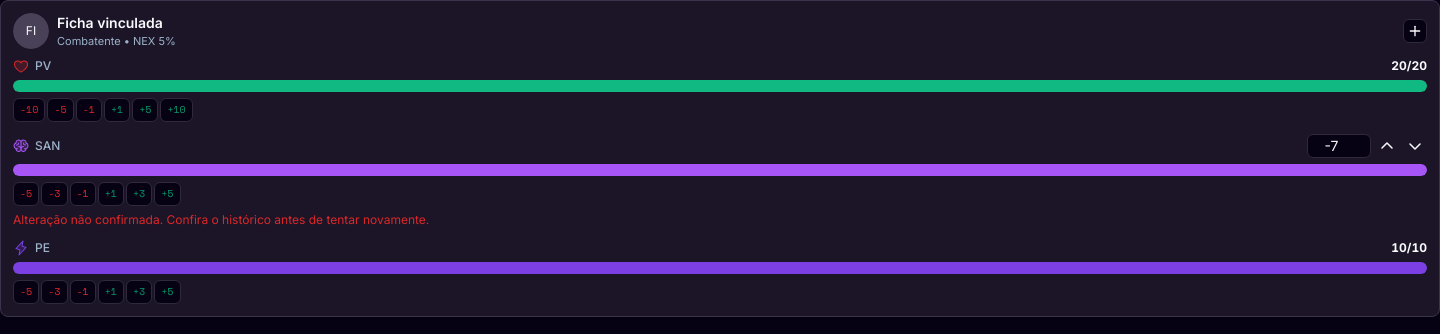
Test case: Controles individuais das fichas vinculadas › bloqueia duplicação enquanto aguarda e mantém a entrada após recusa
Earlier steps of the test are not shown.
Later steps or results of the test are not shown.
expect the message shows "Alteração não confirmada": met, box [13, 212, 429, 226]
expect the number field named "Ajuste de SAN" holds "-7": met, box [1307, 134, 1371, 158]
Click the button named "Aplicar ajuste de SAN": click(1387, 146) [1375, 134, 1399, 158]
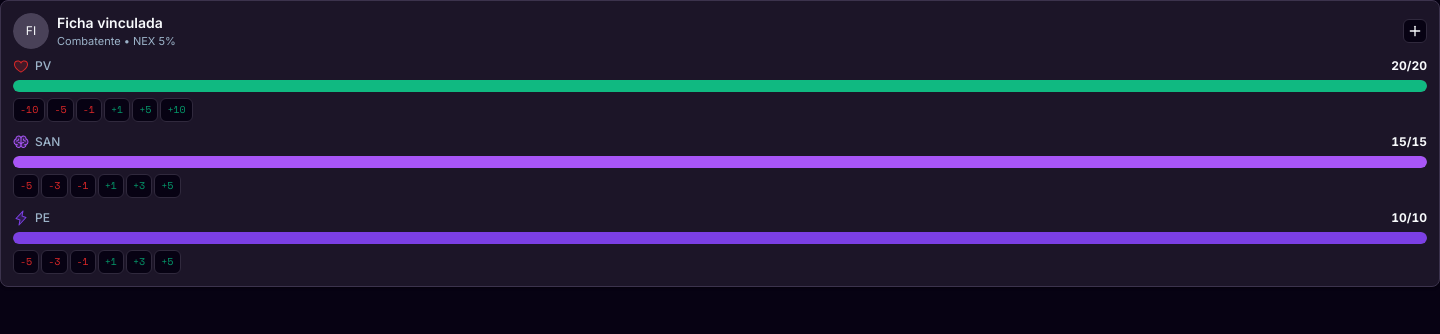
expect the message "Alteração não confirmada. Confira o histórico antes de tentar novamente." is gone: met
